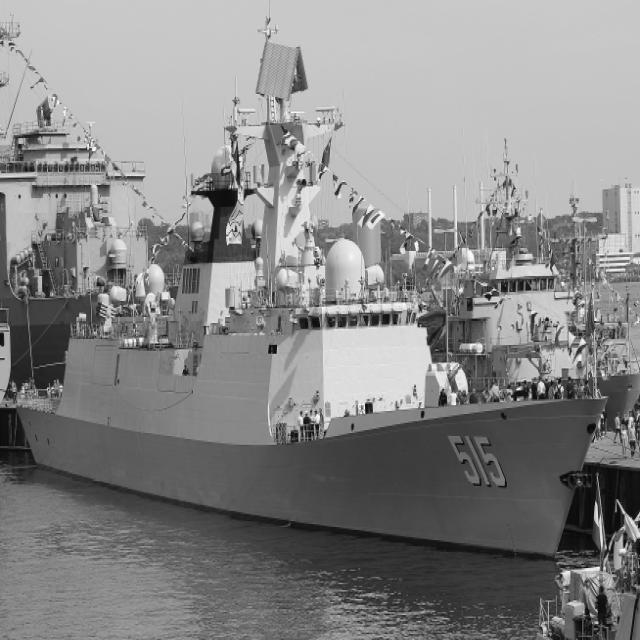Fragata: (8, 17, 610, 572)
